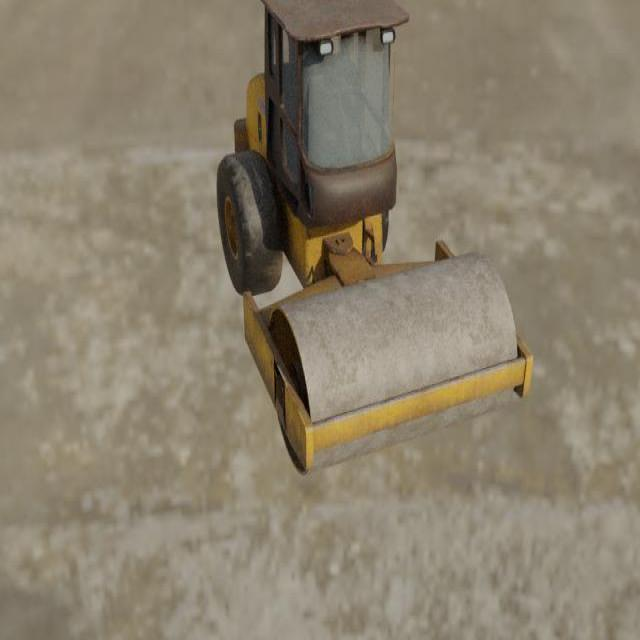Roller: (215, 0, 533, 477)
